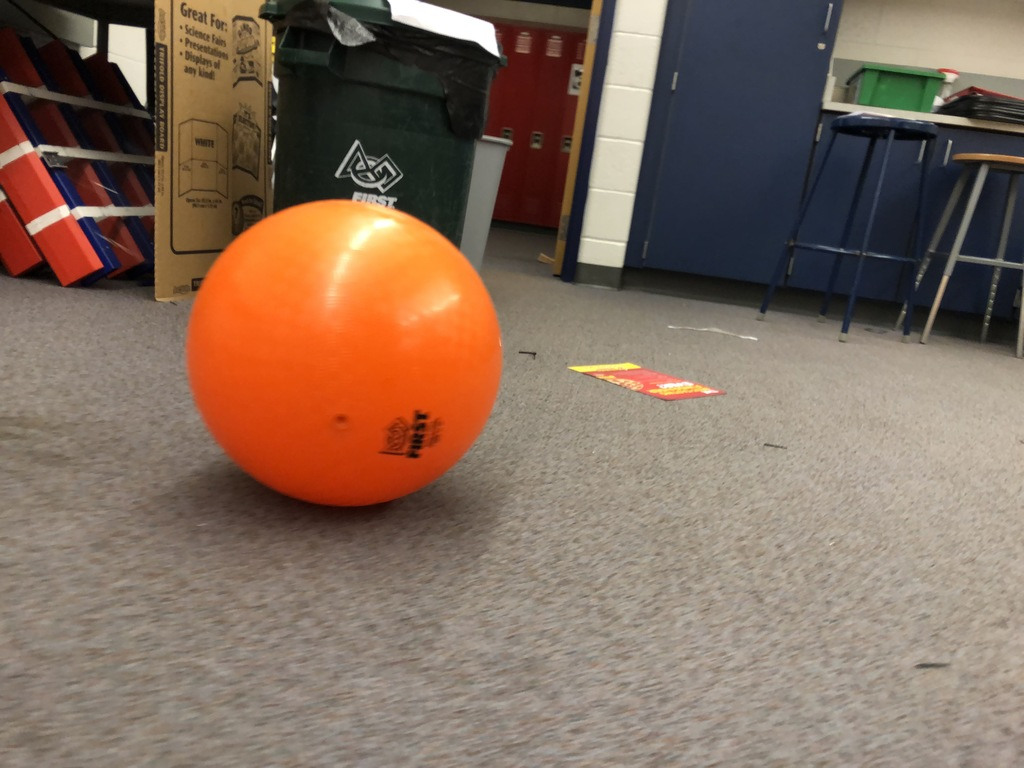cargo: (185, 190, 508, 515)
